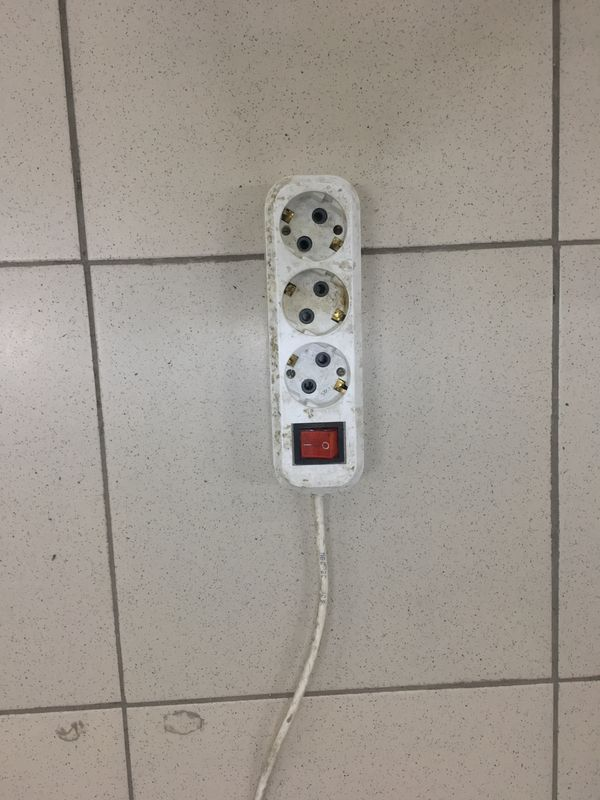socket: (253, 172, 380, 495)
